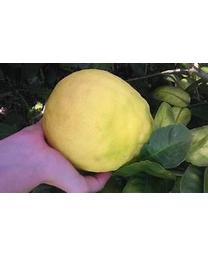lemon: (43, 71, 156, 173)
